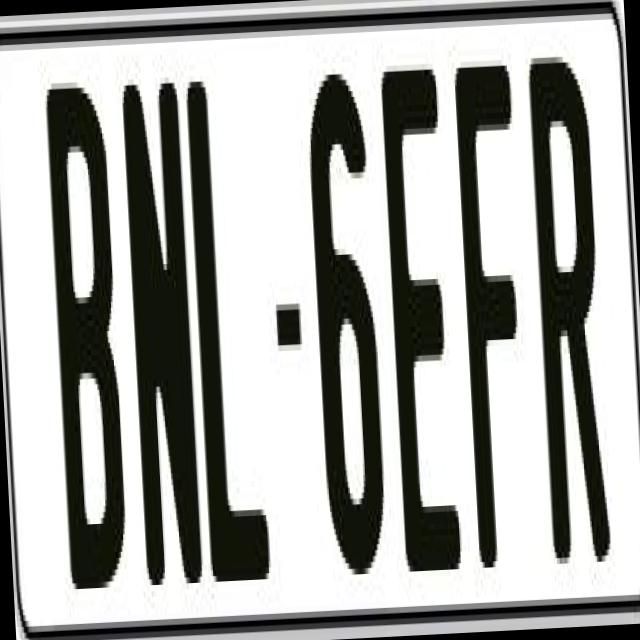6: (304, 67, 392, 570)
B: (40, 87, 126, 601)
E: (376, 70, 464, 596)
F: (449, 66, 534, 592)
L: (186, 67, 276, 570)
N: (117, 83, 199, 603)
R: (528, 43, 618, 558)
